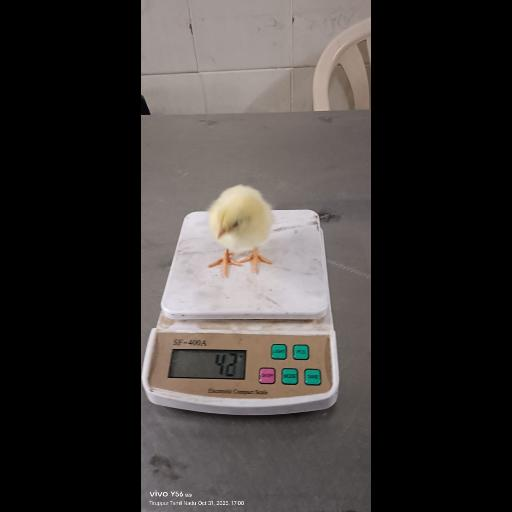chick: (208, 185, 276, 278)
